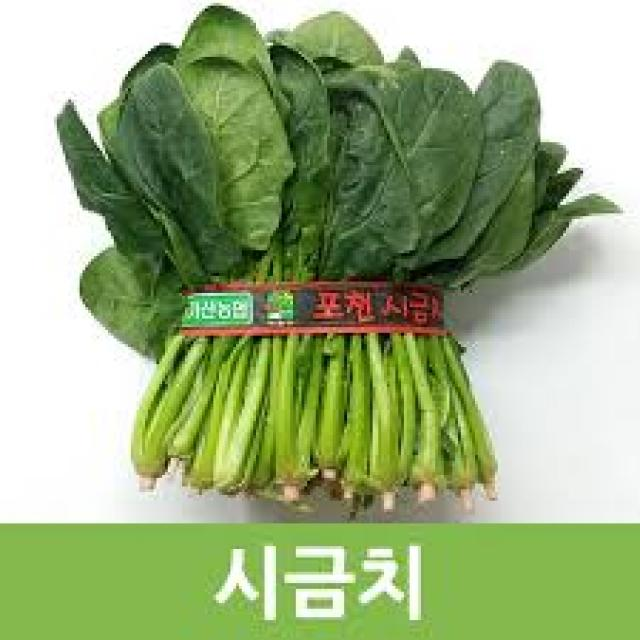spinach: (57, 6, 620, 495)
